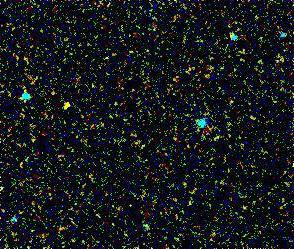star: (49, 90, 79, 120)
